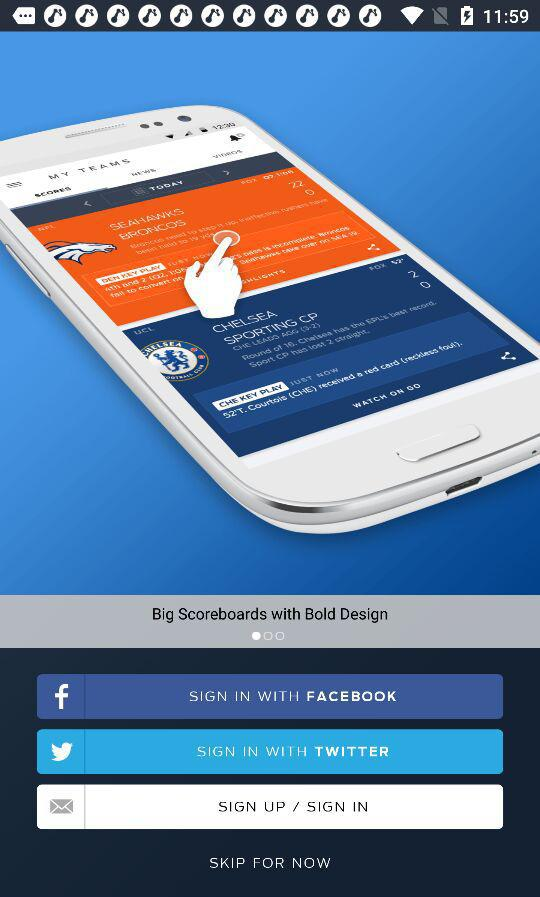Image: (1, 33, 539, 595)
PageIndicator: (251, 631, 286, 642)
Text: (153, 607, 389, 624), (209, 857, 331, 869)
TextButton: (37, 729, 504, 775), (37, 674, 503, 720), (37, 784, 503, 830)
UpperTaskBar: (1, 1, 540, 33)
